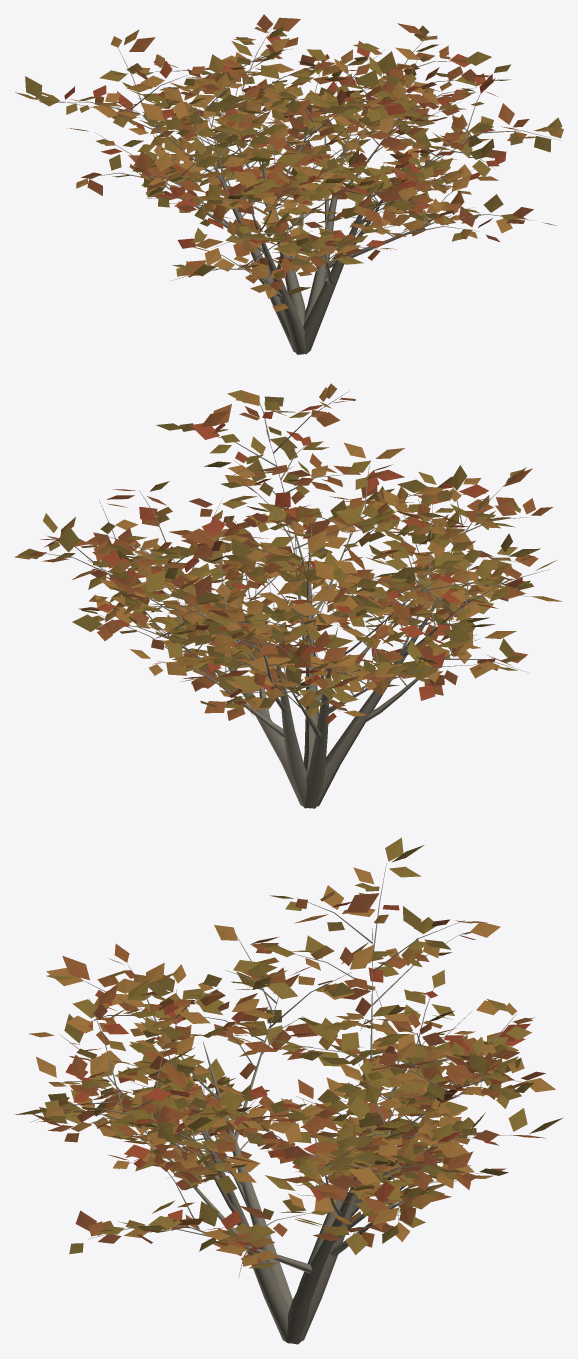
File: shrub_05.glb
The picture shows the model from 3 angles, top to bottom: view 1: azimuth 30°, elevation 25°; view 2: azimuth 150°, elevation 25°; view 3: azimuth 270°, elevation 25°; orthographic projection. The views are drawn at different scales.
Parts seen in each view (by area): view 1: Shrub_05_foliage, Shrub_05_stems; view 2: Shrub_05_foliage, Shrub_05_stems; view 3: Shrub_05_foliage, Shrub_05_stems.
Part boxes in pixels (box(x1,y1,x2,y2)): Shrub_05_foliage: box(15, 14, 563, 311); Shrub_05_stems: box(40, 28, 561, 354); Shrub_05_foliage: box(14, 383, 562, 724); Shrub_05_stems: box(46, 391, 549, 808); Shrub_05_foliage: box(15, 837, 563, 1268); Shrub_05_stems: box(30, 863, 528, 1344).
Size of the model in its own units: 1.98 by 1.27 by 1.66.
